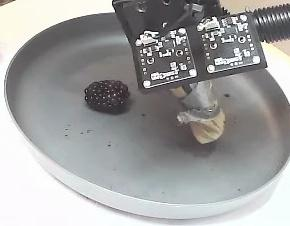berry: (84, 80, 129, 113)
